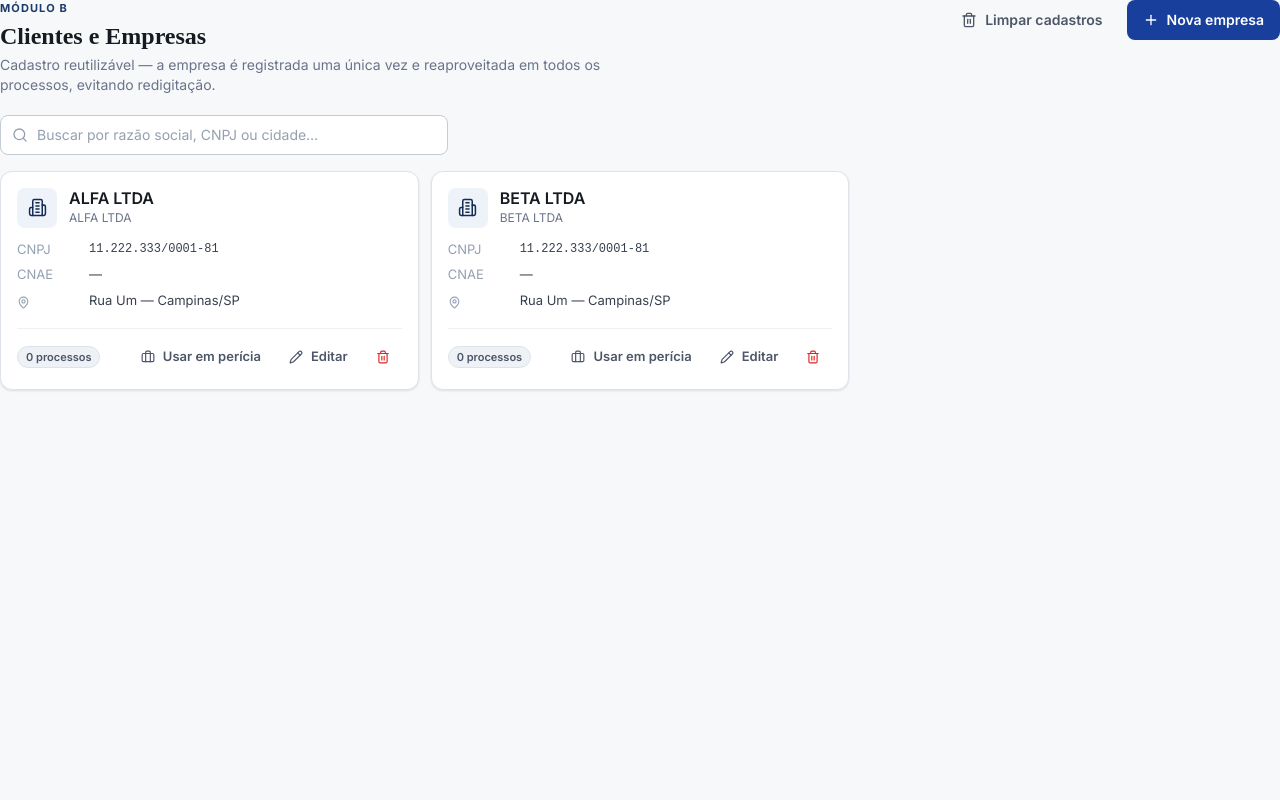
Scenario: Clientes — limpeza dos cadastros de teste › não apaga no primeiro clique: pede confirmação antes
The image size is (1280, 800).
Step 1. Click the button "Limpar cadastros" → (1032, 20), box left=945, top=0, right=1119, bottom=40
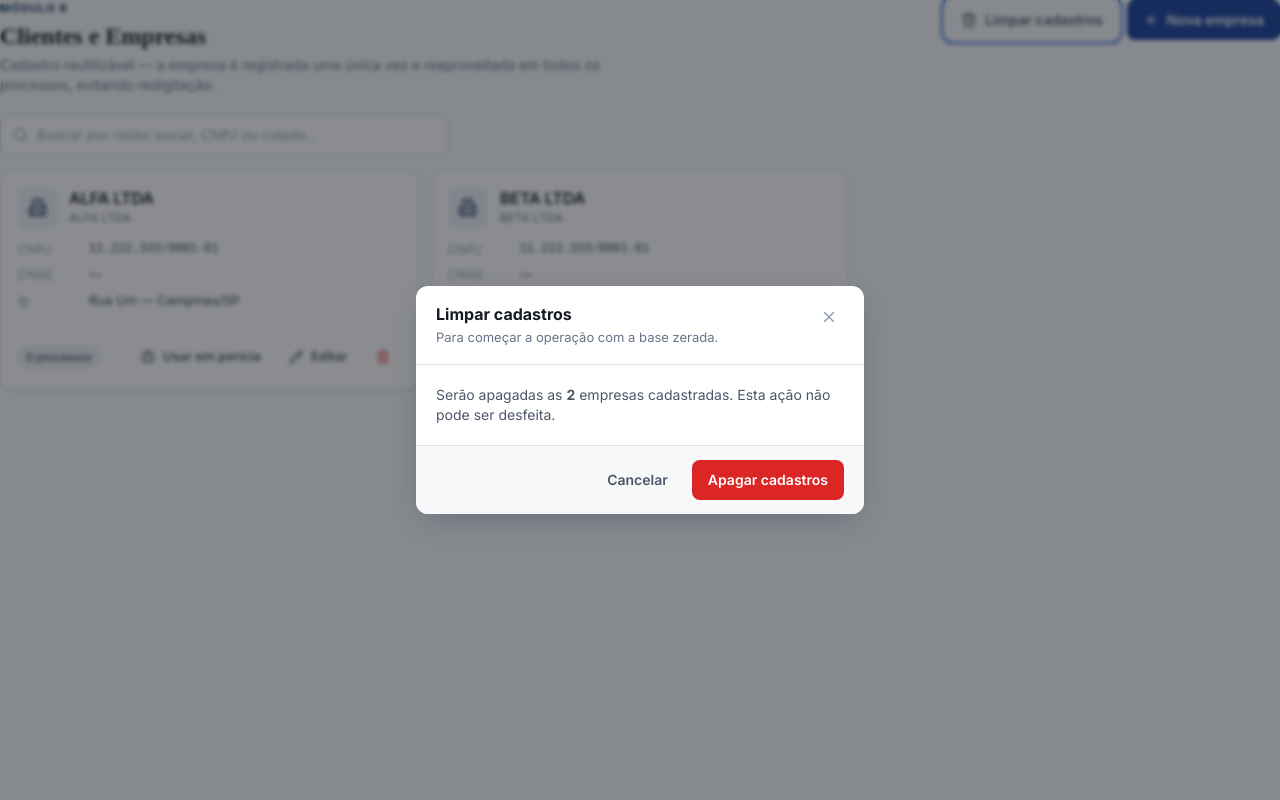
Expected: the text "Serão apagadas as" shows "2", left=566, top=386, right=575, bottom=403
